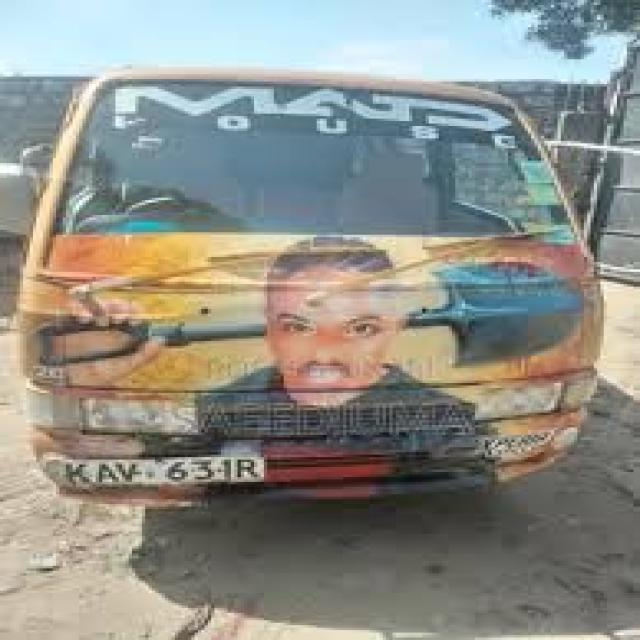matatu: (2, 26, 640, 575)
